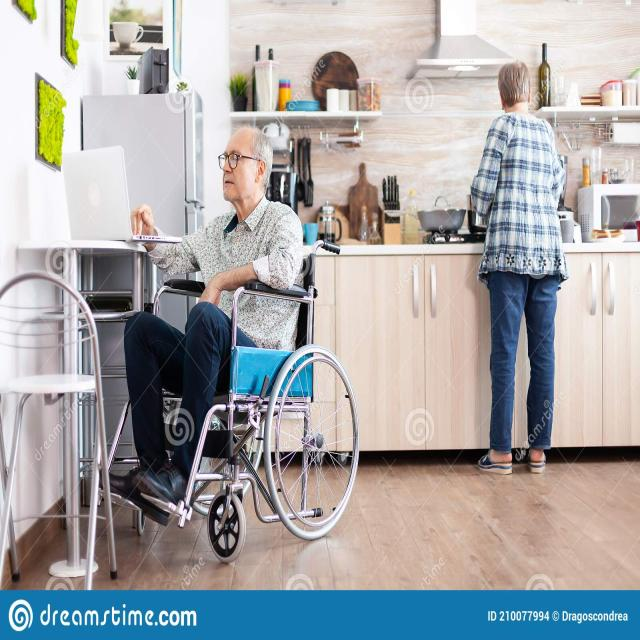wheelchairs: (103, 225, 365, 567)
